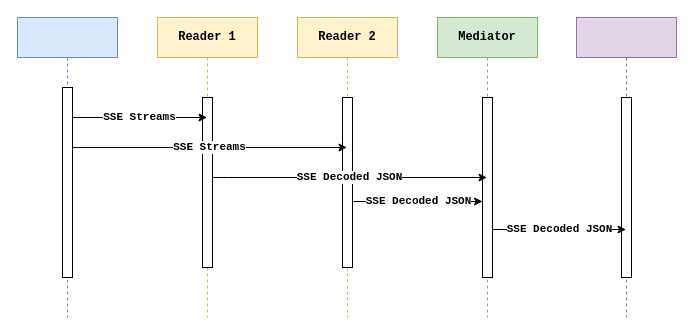
Some shapes in this 694 by 335 pixel diagram are drawn without their labels. The box of each missing label's shape, as (x1, y1, x2, y2) in pixels:
Docker Container: (16, 16, 118, 318)
Printer: (576, 16, 676, 318)
